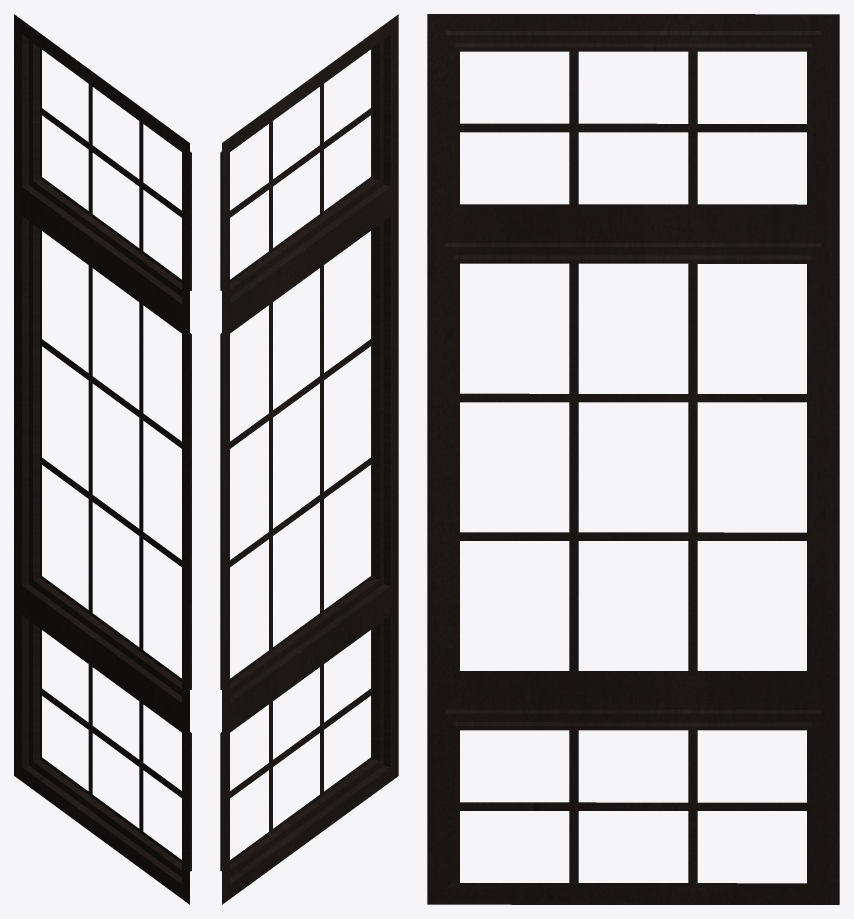
The model's file is Window02B.FBX.
The picture shows the model from 3 angles, left to right: view 1: azimuth 30°, elevation 25°; view 2: azimuth 150°, elevation 25°; view 3: azimuth 270°, elevation 25°; orthographic projection. The views are drawn at different scales.
Parts seen in each view (by area): view 1: Window02B; view 2: Window02B; view 3: Window02B.
Part boxes in pixels (x1=…): Window02B: x1=14, y1=14, x2=191, y2=904; Window02B: x1=220, y1=14, x2=398, y2=904; Window02B: x1=427, y1=14, x2=839, y2=904.
Bounding box in the file's own units: 6.56 × 336 × 141.
